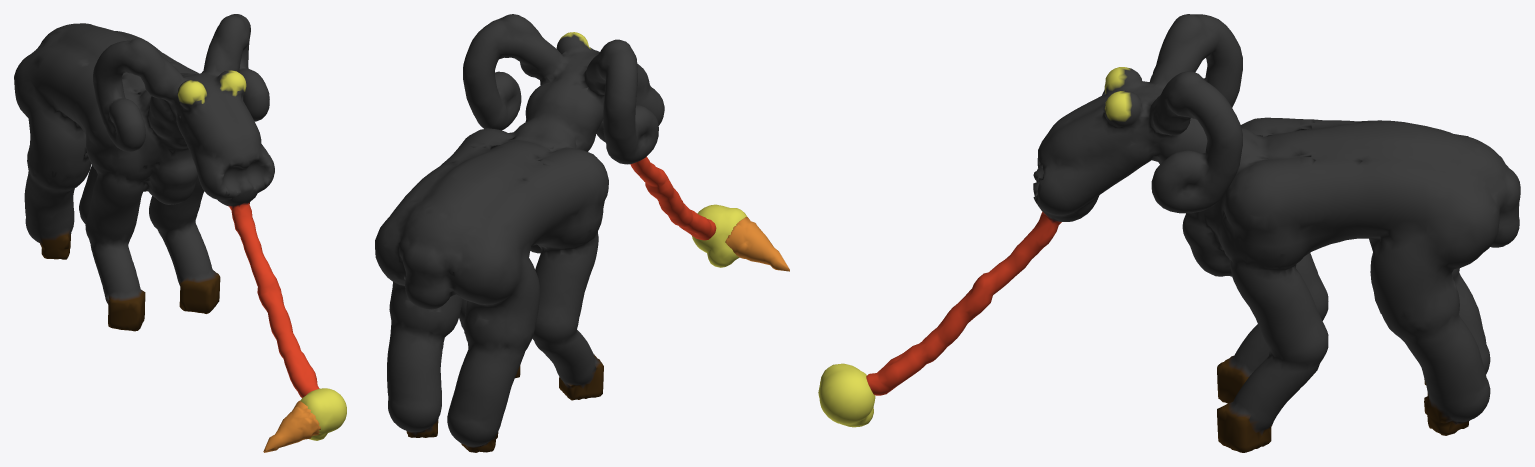
The model's file is Goat Scream.fbx.
3 views of the same model, side by side, from view 1: azimuth 30°, elevation 25°; view 2: azimuth 150°, elevation 25°; view 3: azimuth 270°, elevation 25° (orthographic). The views are drawn at different scales.
Parts seen in each view (by area): view 1: 1 to 1.005; view 2: 1 to 1.005; view 3: 1 to 1.005.
Boxes of the visible parts, x1,y1,x2,y2 form: 1 to 1.005: (14,14,346,452); 1 to 1.005: (375,14,789,452); 1 to 1.005: (818,14,1520,452).
Bounding box in the file's own units: 768 × 1496 × 2469.
